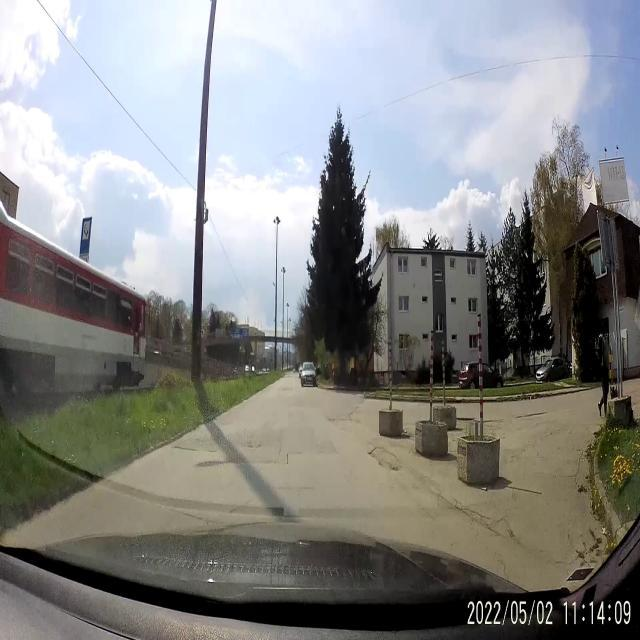Pothole: (366, 442, 402, 483)
